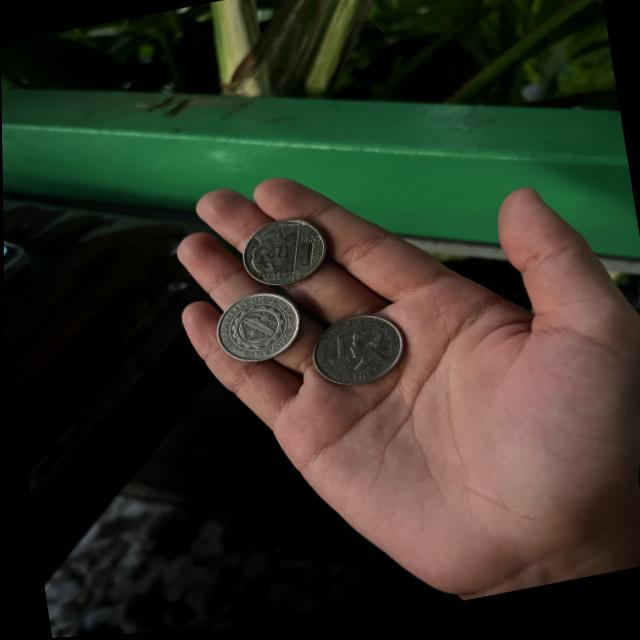1_New_Front: (238, 212, 324, 289)
1_Old_Back: (222, 304, 288, 367)
1_Old_Front: (325, 327, 384, 385)
